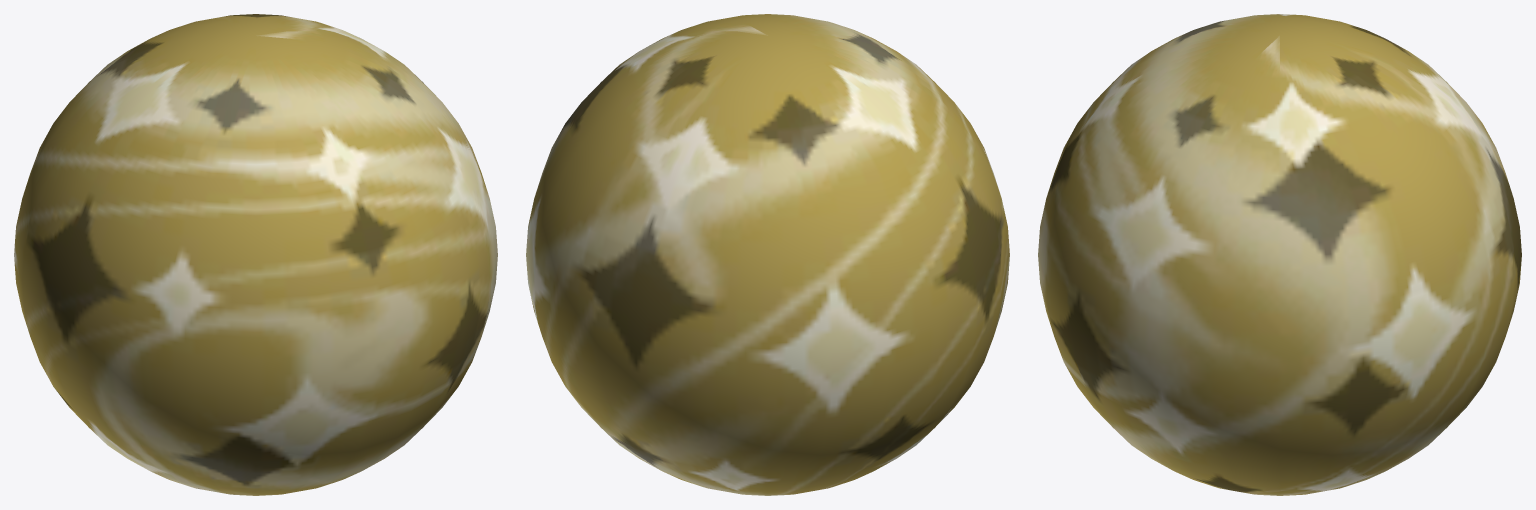
File: bwg_ball_pro__bwg_ball_yellow_pro.glb
The picture shows the model from 3 angles, left to right: view 1: azimuth 30°, elevation 25°; view 2: azimuth 150°, elevation 25°; view 3: azimuth 270°, elevation 25°; orthographic projection.
Visible parts, largest first — view 1: polygon0; view 2: polygon0; view 3: polygon0.
Boxes of the visible parts, x1=… form: polygon0: x1=14, y1=14, x2=497, y2=495; polygon0: x1=526, y1=14, x2=1009, y2=495; polygon0: x1=1038, y1=14, x2=1521, y2=495.
Size of the model in its own units: 2.18 by 2.18 by 2.18.
Materials: 1 (1 with a texture image).
